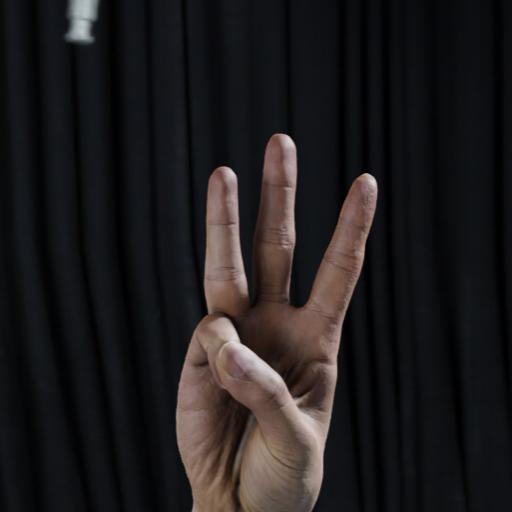W: (153, 122, 397, 512)
